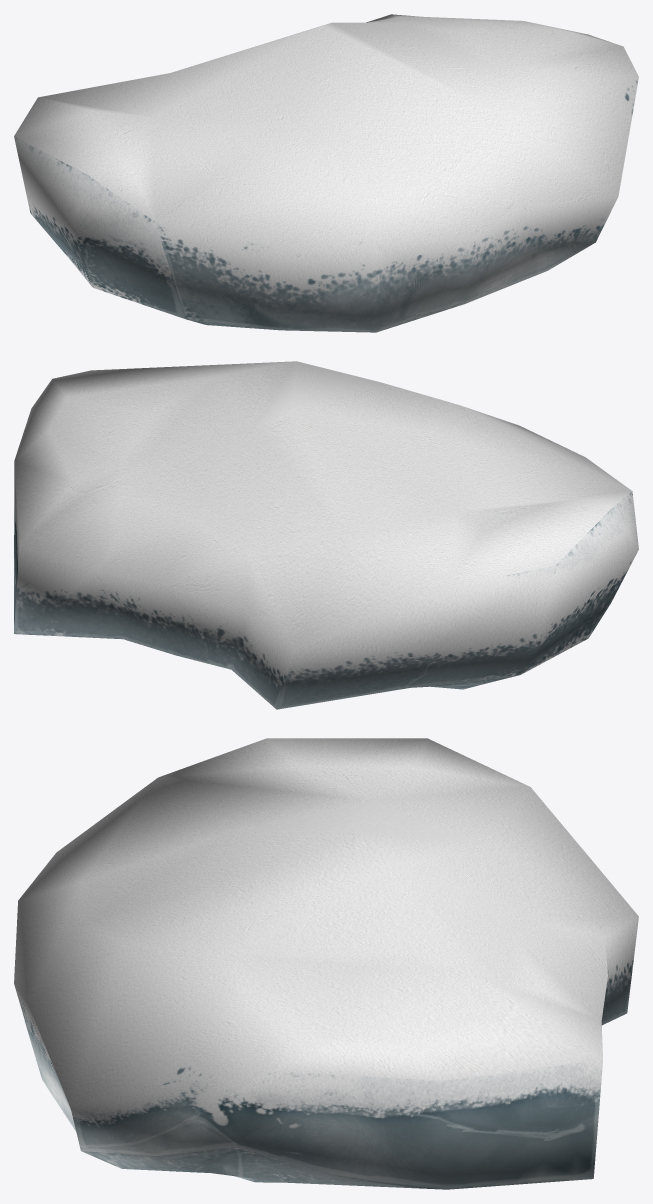
Rendered from rock_9.fbx.
The picture shows the model from 3 angles, top to bottom: view 1: azimuth 30°, elevation 25°; view 2: azimuth 150°, elevation 25°; view 3: azimuth 270°, elevation 25°; orthographic projection. The views are drawn at different scales.
Visible parts, largest first — view 1: rock_9; view 2: rock_9; view 3: rock_9.
Part boxes in pixels (<box>): rock_9: <box>14,14,638,332</box>; rock_9: <box>14,361,638,709</box>; rock_9: <box>14,738,638,1189</box>.
Bounding box in the file's own units: 3.41 × 1.36 × 2.64.
